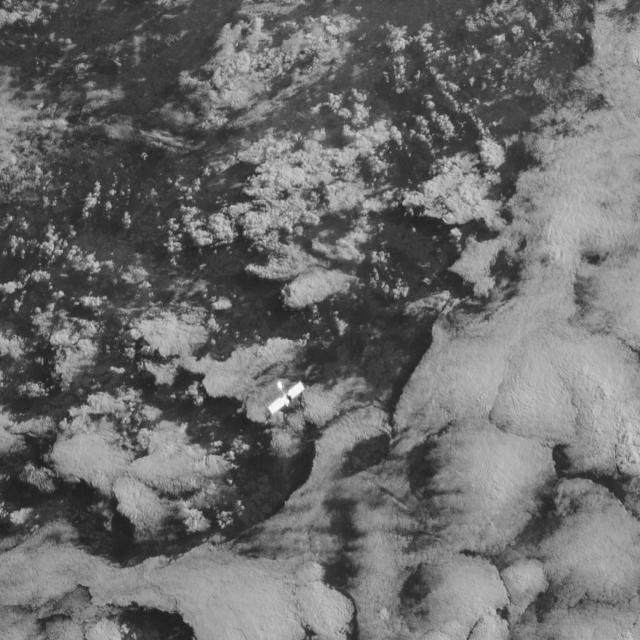satellite: (250, 375, 312, 418)
